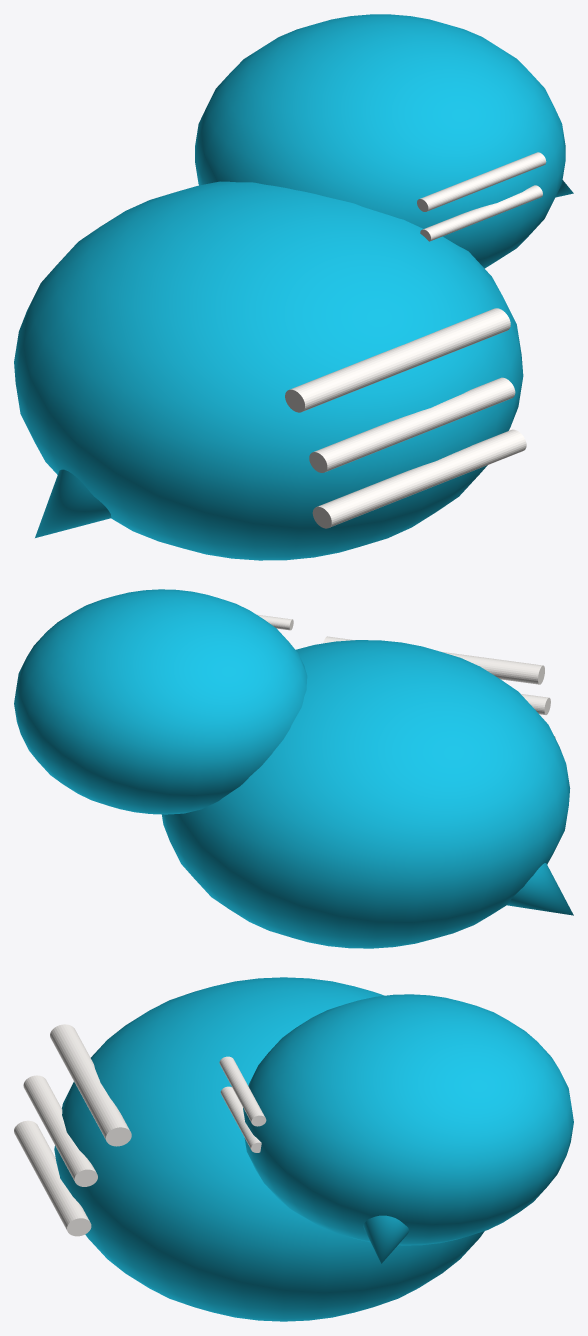
Rendered from messagemodel.gltf.
The picture shows the model from 3 angles, top to bottom: view 1: azimuth 30°, elevation 25°; view 2: azimuth 150°, elevation 25°; view 3: azimuth 270°, elevation 25°; orthographic projection. The views are drawn at different scales.
Parts seen in each view (by area): view 1: Sphere, Sphere.001, Cylinder, Cylinder.002, Cylinder.001, Cone, Cylinder.003, Cylinder.004; view 2: Sphere, Sphere.001, Cone, Cylinder; view 3: Sphere, Sphere.001, Cylinder, Cylinder.002, Cylinder.001, Cone.001, Cylinder.003, Cylinder.004.
Boxes of the visible parts, <box> form: Sphere: <box>14,181,523,560</box>; Sphere.001: <box>195,14,565,268</box>; Cylinder: <box>285,308,510,412</box>; Cylinder.002: <box>312,429,526,528</box>; Cylinder.001: <box>309,377,515,472</box>; Cone: <box>35,469,111,537</box>; Cylinder.003: <box>417,152,546,211</box>; Cylinder.004: <box>420,185,542,241</box>; Sphere: <box>161,640,570,948</box>; Sphere.001: <box>14,589,307,814</box>; Cone: <box>507,863,573,915</box>; Cylinder: <box>323,636,544,684</box>; Sphere: <box>54,977,484,1321</box>; Sphere.001: <box>243,994,573,1245</box>; Cylinder: <box>50,1024,131,1146</box>; Cylinder.002: <box>14,1120,91,1236</box>; Cylinder.001: <box>23,1075,97,1186</box>; Cone.001: <box>363,1215,408,1263</box>; Cylinder.003: <box>219,1056,266,1126</box>; Cylinder.004: <box>220,1086,261,1152</box>.
Bounding box in the file's own units: 5.24 × 3.26 × 4.66.
